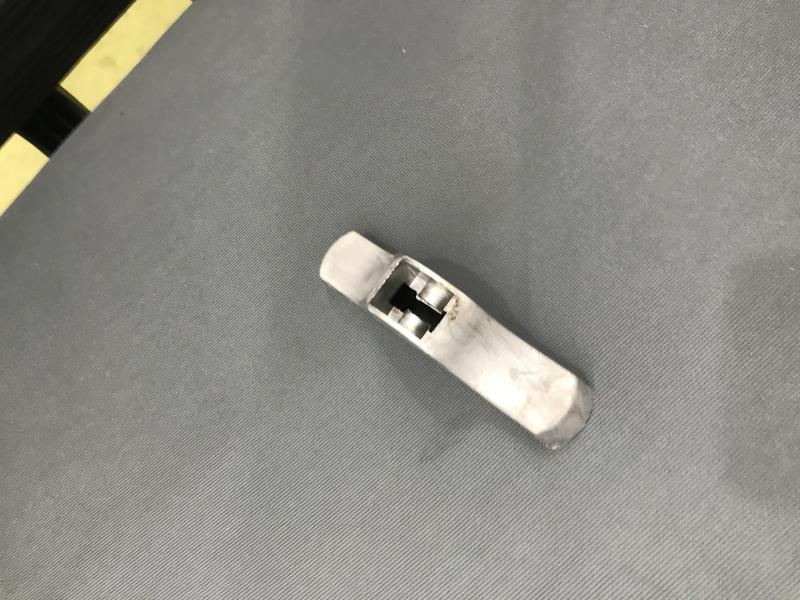zapchast: (313, 221, 609, 461)
